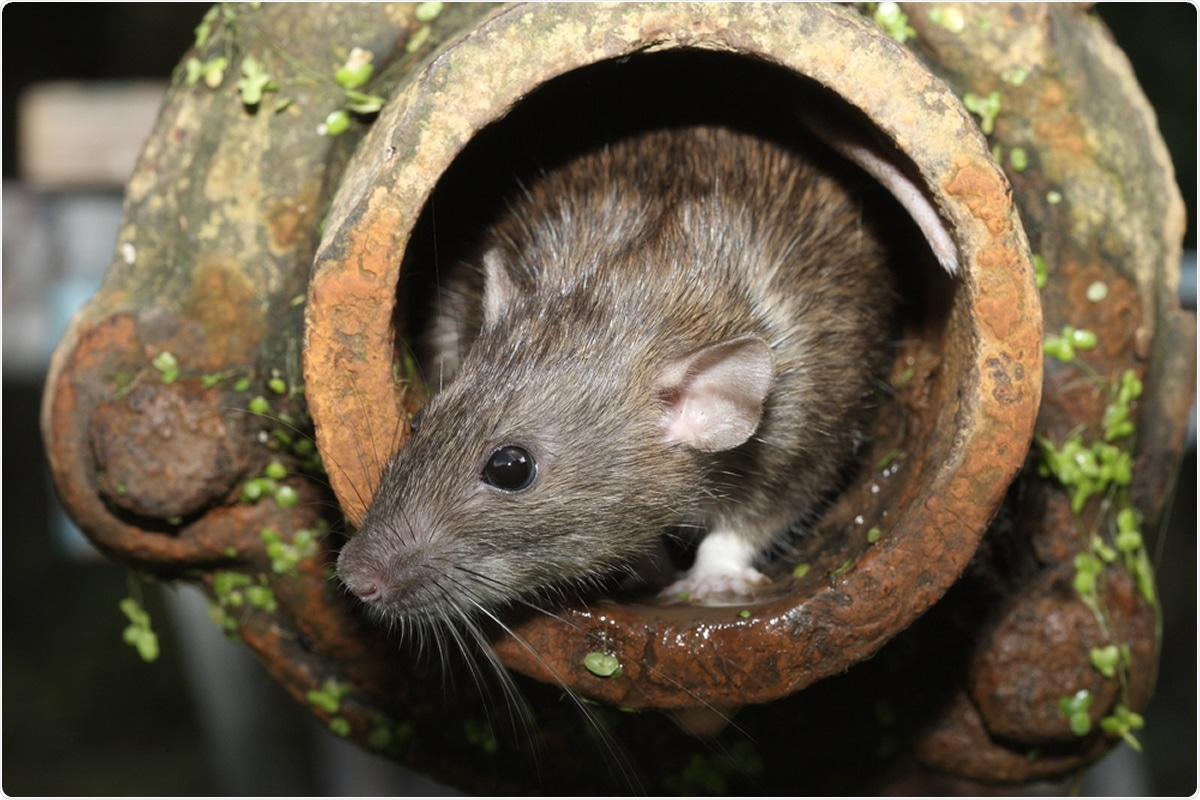Rat: (319, 113, 888, 663)
